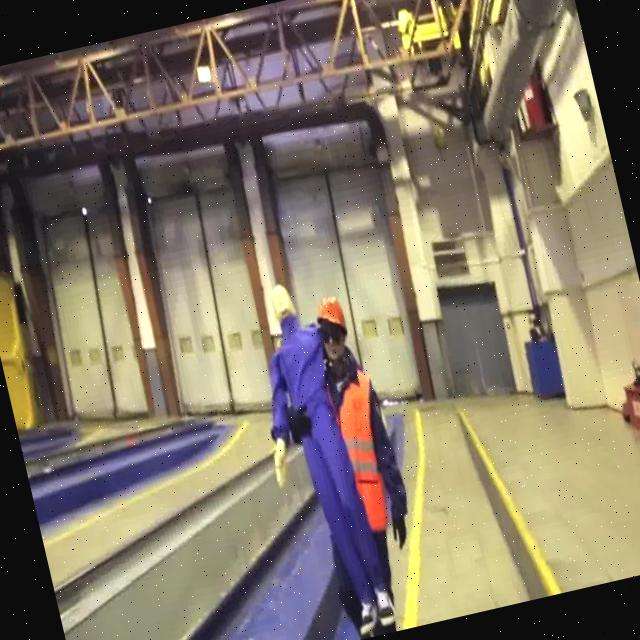helmet: (304, 286, 375, 378), (316, 292, 348, 336)
no-boots: (350, 580, 410, 639)
vest: (326, 360, 406, 535)
